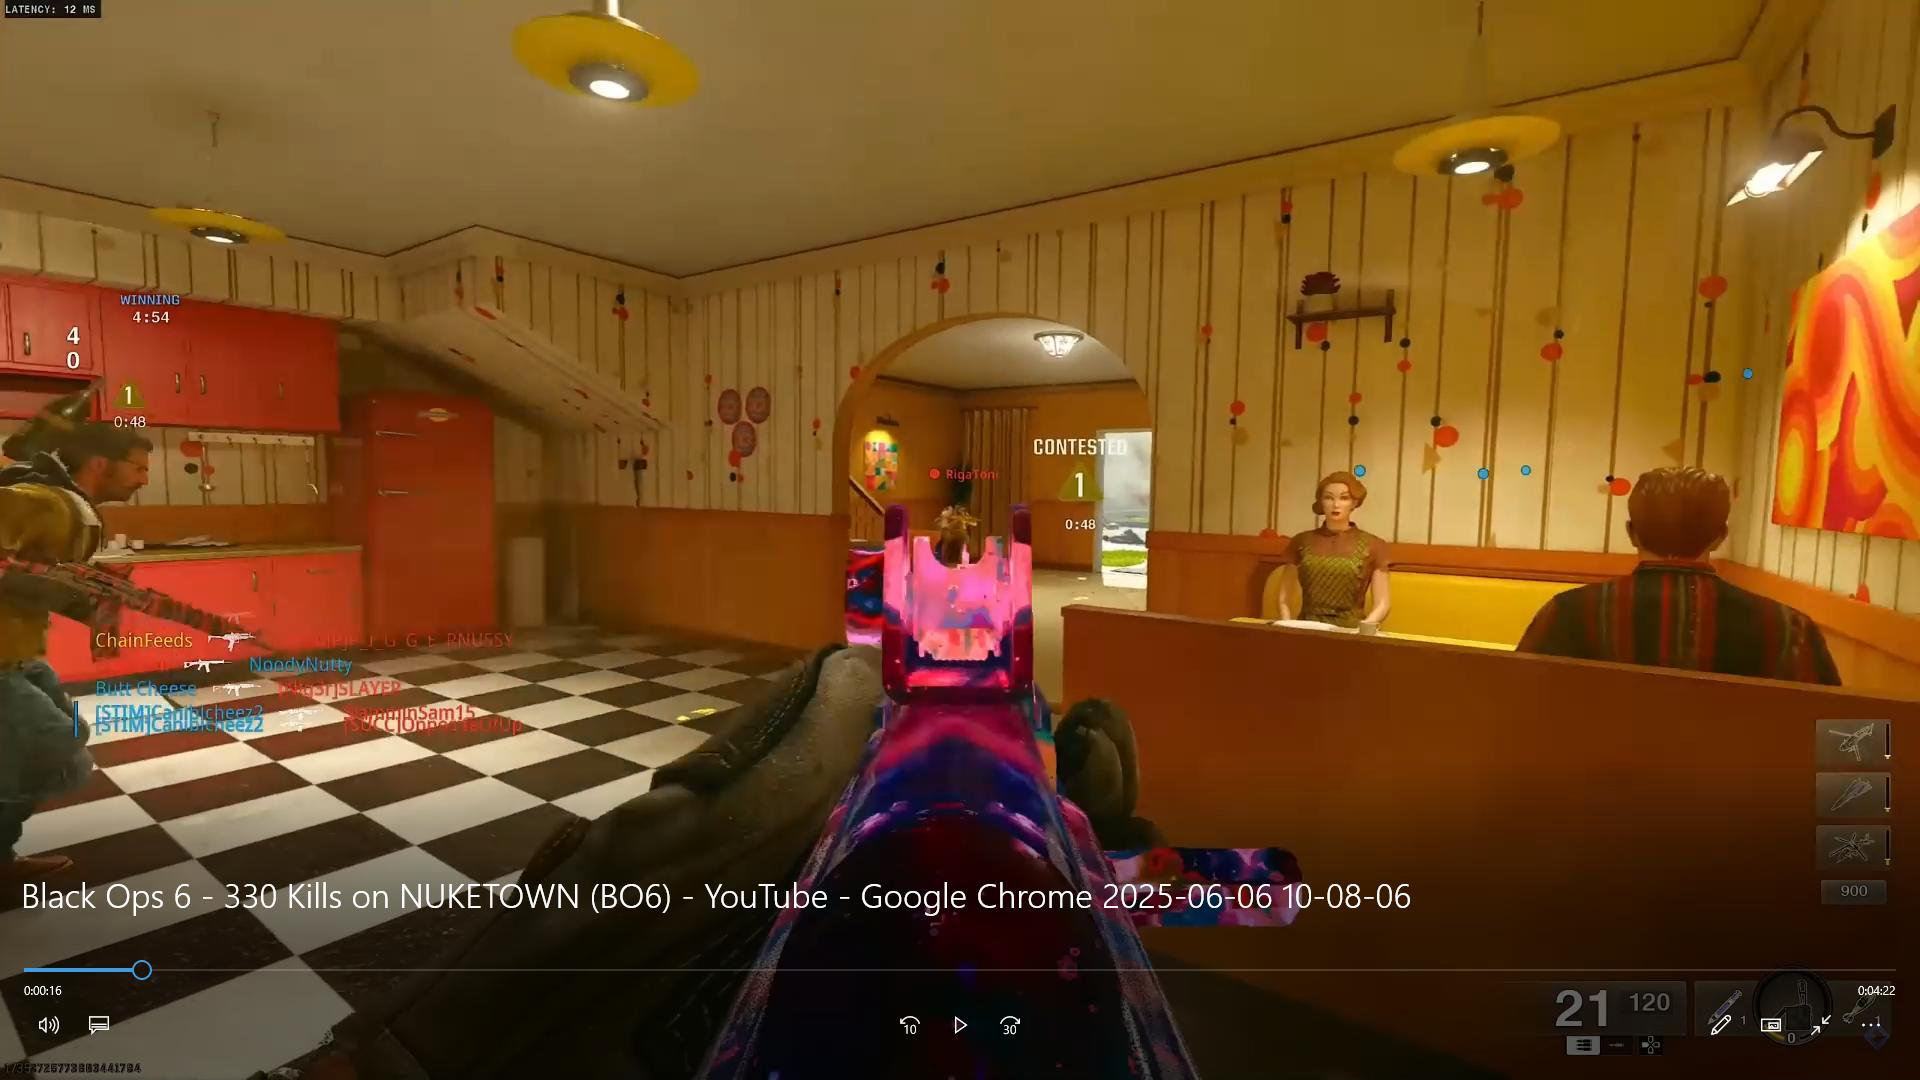Enemy: (0, 357, 169, 617), (915, 451, 996, 560)
